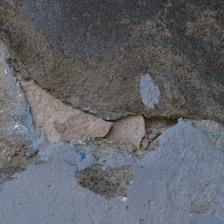Crack: (9, 36, 211, 120)
